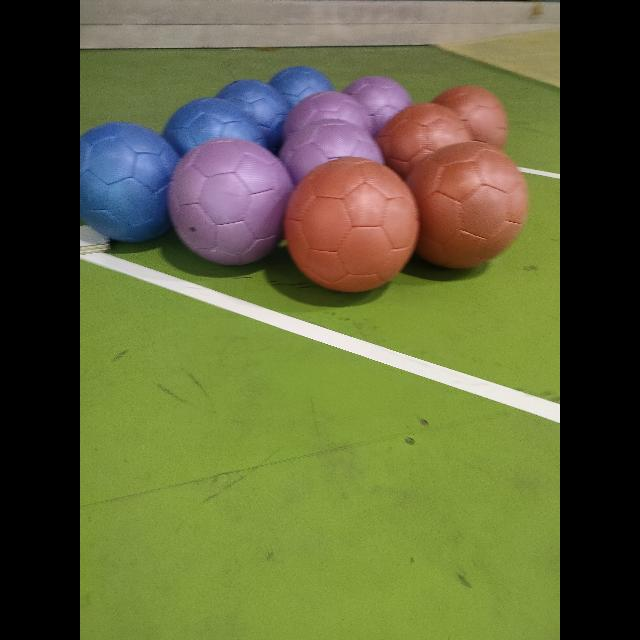B: (81, 122, 179, 242), (164, 96, 266, 156), (269, 66, 335, 105)
P: (168, 138, 294, 264), (282, 118, 382, 202), (342, 76, 412, 136)
R: (284, 158, 420, 292), (408, 142, 528, 268), (372, 98, 471, 194), (436, 84, 509, 162)
